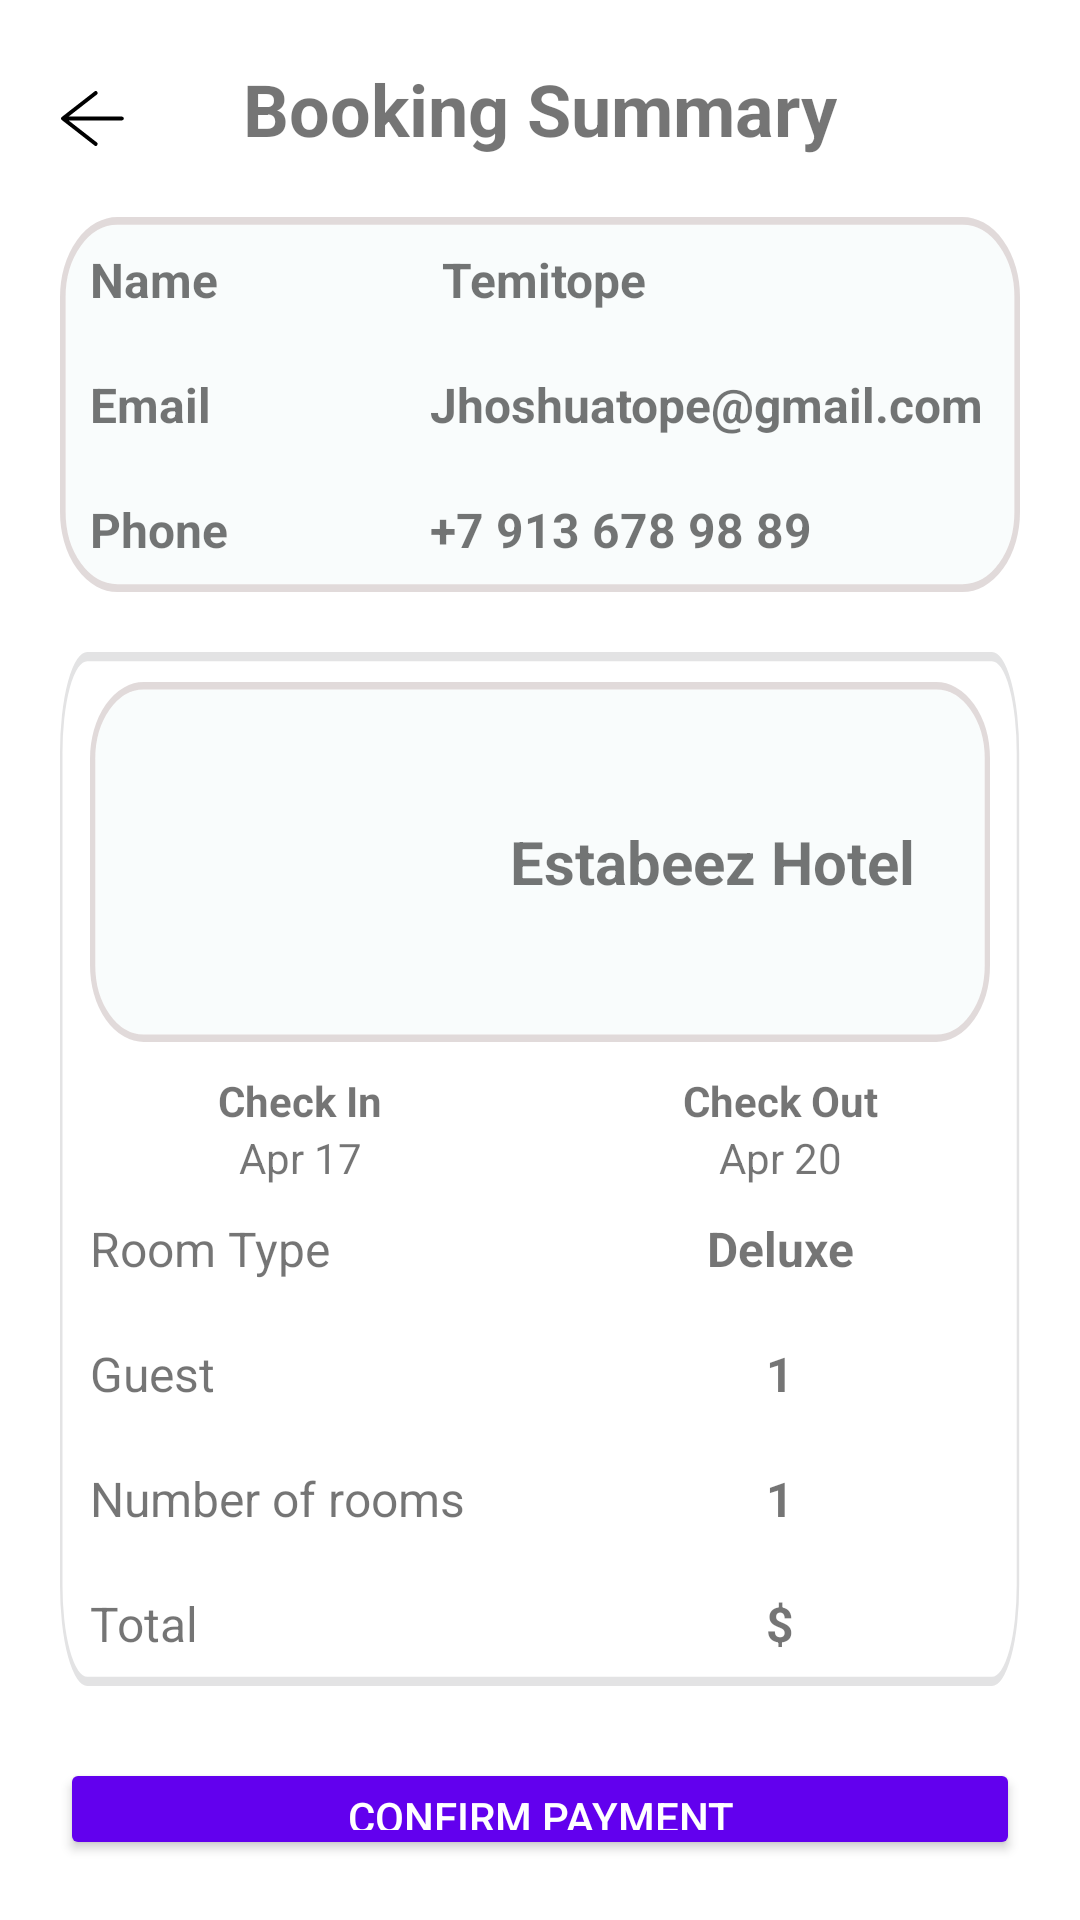

Named icons in this screenshot (1080px×1920px) and their bounding boxes, bbox(x1, y1, x2, y2):
arrow: bbox(61, 91, 124, 146)
